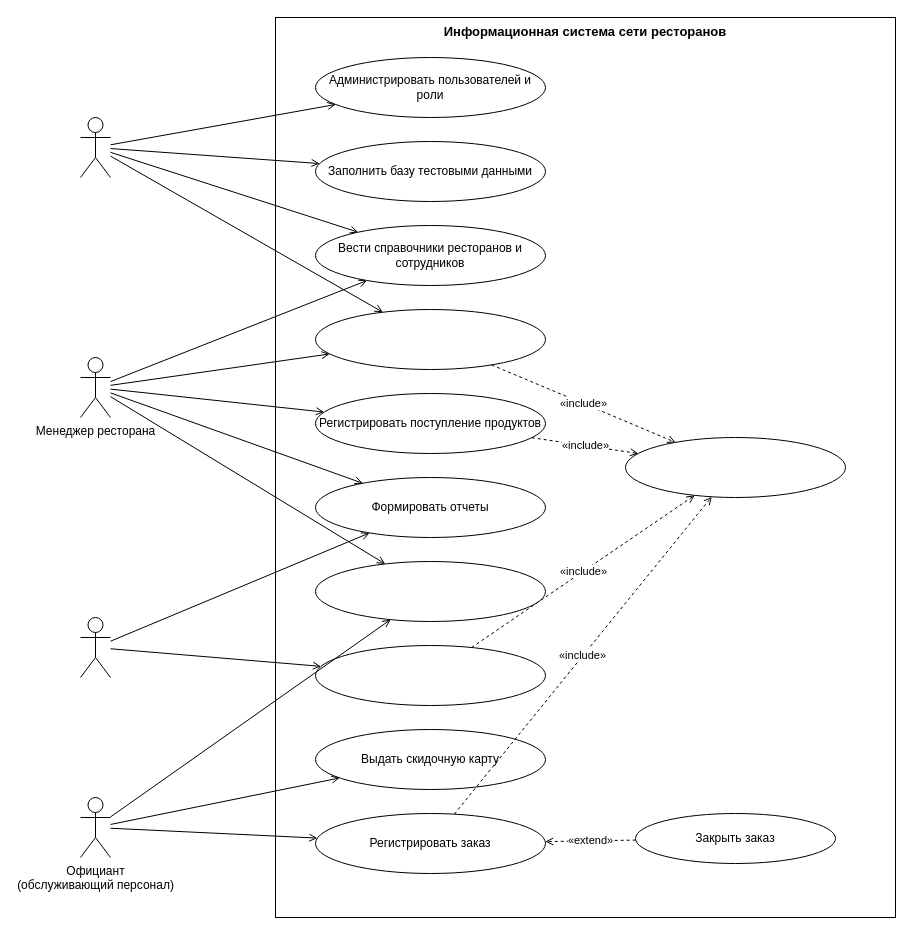
The diagram is 913 pixels wide and 935 high, and some of its shapes have lost their labels. Each missing label, with the centre of its shape:
"Авторизоваться в системе" goes at [735,467].
"Администратор" goes at [95,147].
"Вести меню и цены блюд" goes at [430,339].
"Вести рецептуры блюд" goes at [430,675].
"Печатать меню" goes at [430,591].
"Повар" goes at [95,647].
